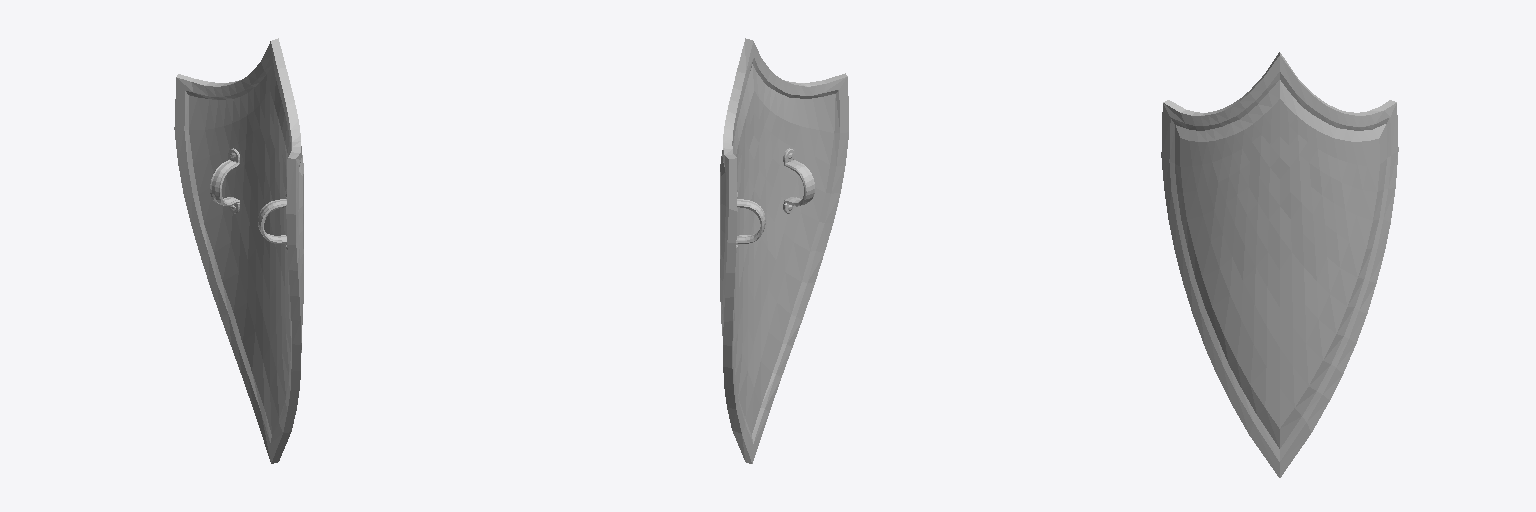
File: Shield v2.obj
3 renders of one model, left to right at view 1: azimuth 30°, elevation 25°; view 2: azimuth 150°, elevation 25°; view 3: azimuth 270°, elevation 25°, orthographic.
Visible parts, largest first — view 1: Shield_v2; view 2: Shield_v2; view 3: Shield_v2.
Part boxes in pixels (bbox=[...]): Shield_v2: bbox=[174, 38, 303, 463]; Shield_v2: bbox=[720, 38, 848, 463]; Shield_v2: bbox=[1161, 52, 1398, 477].
Size of the model in its own units: 15.79 by 125 by 63.48.